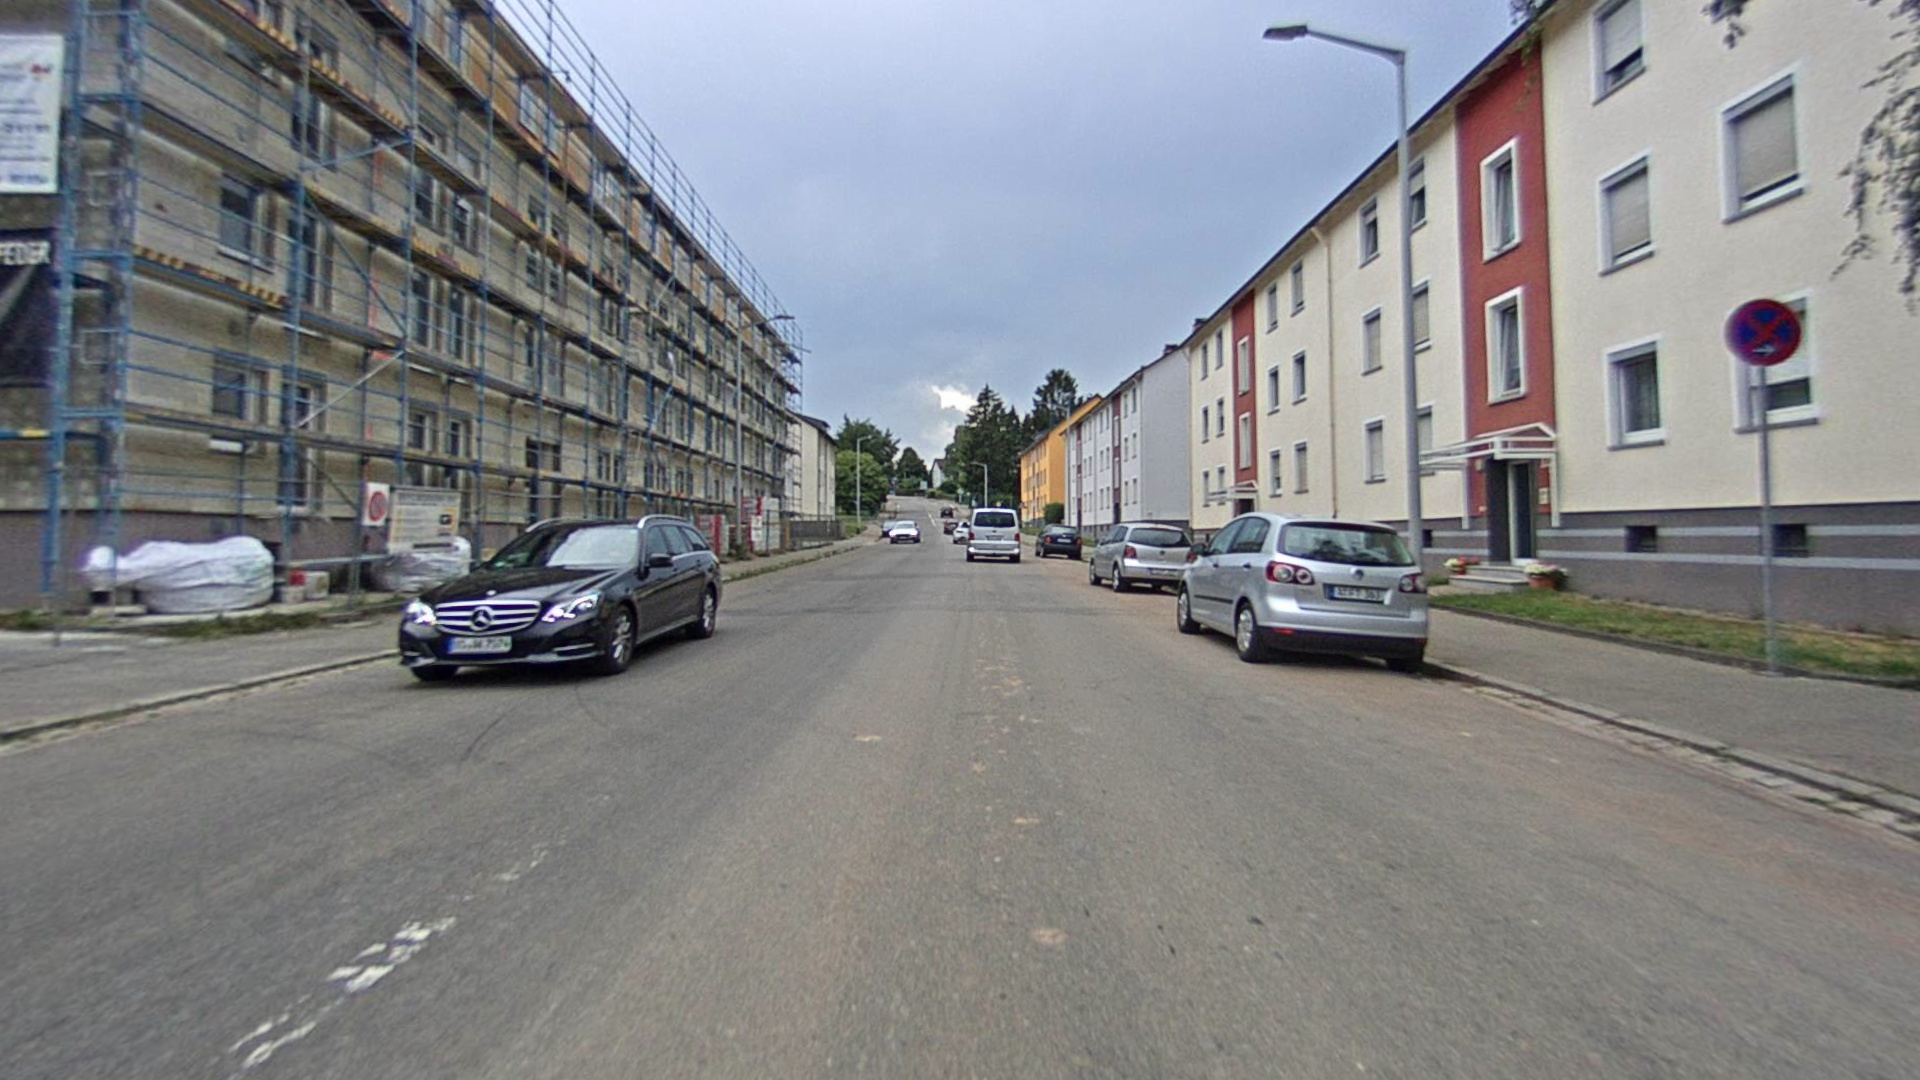car: (397, 514, 725, 680), (1176, 512, 1431, 675), (967, 504, 1022, 564)
